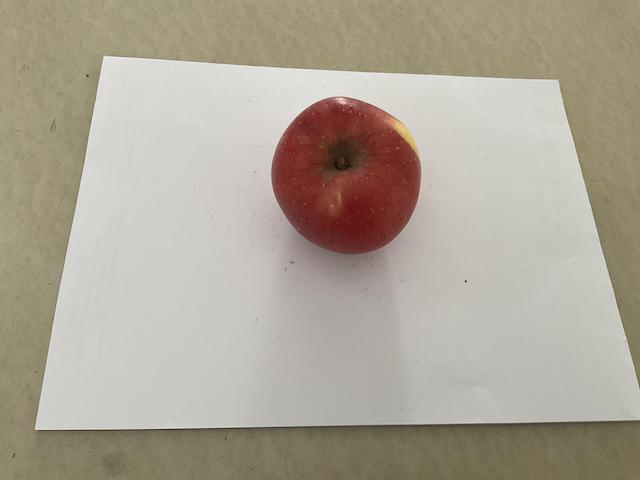apple: (266, 88, 426, 258)
